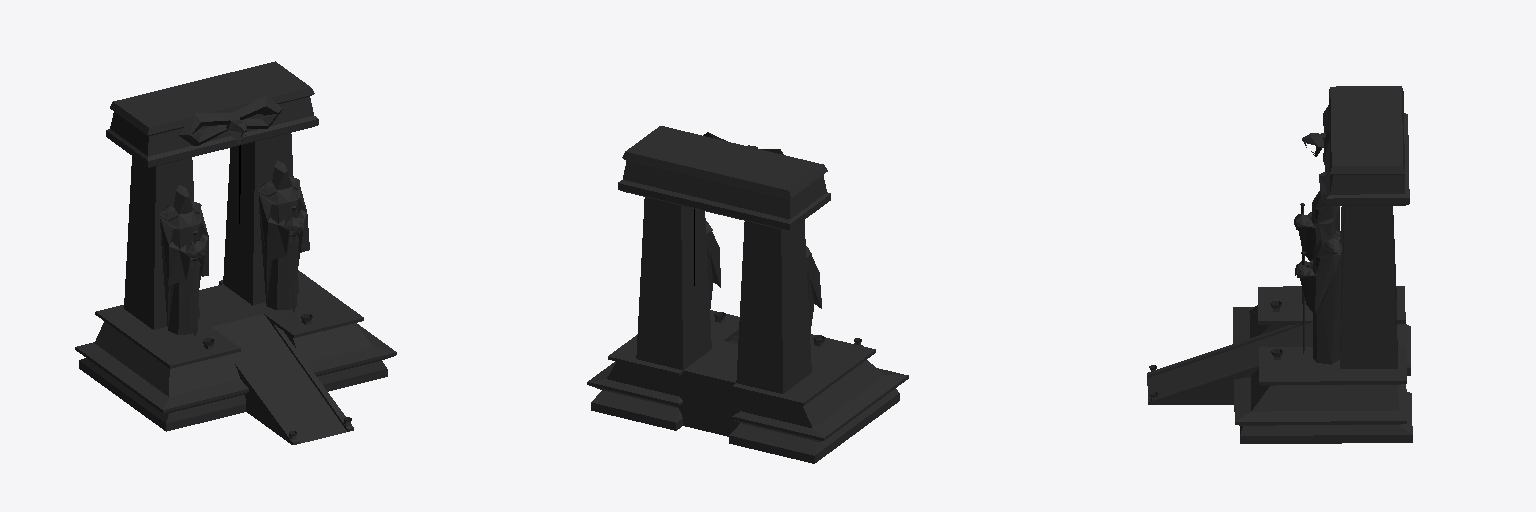
Rendered from portal.obj.
3 renders of one model, left to right at view 1: azimuth 30°, elevation 25°; view 2: azimuth 150°, elevation 25°; view 3: azimuth 270°, elevation 25°, orthographic.
Parts seen in each view (by area): view 1: Mesh08, Mesh06, Mesh09, Mesh11, Mesh10, Mesh01, Mesh12, Mesh13, Mesh29, Mesh07, Mesh30, Mesh31 (+2 smaller); view 2: Mesh06, Mesh08, Mesh10, Mesh01, Mesh09, Mesh32, Mesh07, Mesh12, Mesh13; view 3: Mesh09, Mesh06, Mesh01, Mesh11, Mesh12, Mesh08, Mesh13, Mesh31, Mesh30.
Boxes of the visible parts, <box> form: Mesh08: <box>75,305,248,431</box>; Mesh06: <box>106,61,318,167</box>; Mesh09: <box>219,270,396,391</box>; Mesh11: <box>212,314,346,444</box>; Mesh10: <box>124,156,199,329</box>; Mesh01: <box>223,133,298,305</box>; Mesh12: <box>259,160,309,310</box>; Mesh13: <box>160,185,208,334</box>; Mesh29: <box>179,95,282,145</box>; Mesh07: <box>199,284,262,326</box>; Mesh30: <box>270,322,353,431</box>; Mesh31: <box>232,354,298,444</box>; Mesh06: <box>618,126,830,230</box>; Mesh08: <box>729,334,908,463</box>; Mesh10: <box>736,220,811,393</box>; Mesh01: <box>636,197,711,369</box>; Mesh09: <box>587,310,739,430</box>; Mesh32: <box>679,370,740,436</box>; Mesh07: <box>684,341,737,382</box>; Mesh12: <box>706,232,720,308</box>; Mesh13: <box>806,255,821,333</box>; Mesh09: <box>1234,346,1412,443</box>; Mesh06: <box>1325,86,1409,205</box>; Mesh01: <box>1340,206,1397,368</box>; Mesh11: <box>1147,322,1312,404</box>; Mesh12: <box>1295,217,1341,364</box>; Mesh08: <box>1233,286,1410,375</box>; Mesh13: <box>1294,172,1340,260</box>; Mesh31: <box>1147,324,1305,378</box>; Mesh30: <box>1148,364,1258,404</box>.
Size of the model in its own units: 72.14 by 78.11 by 70.15.